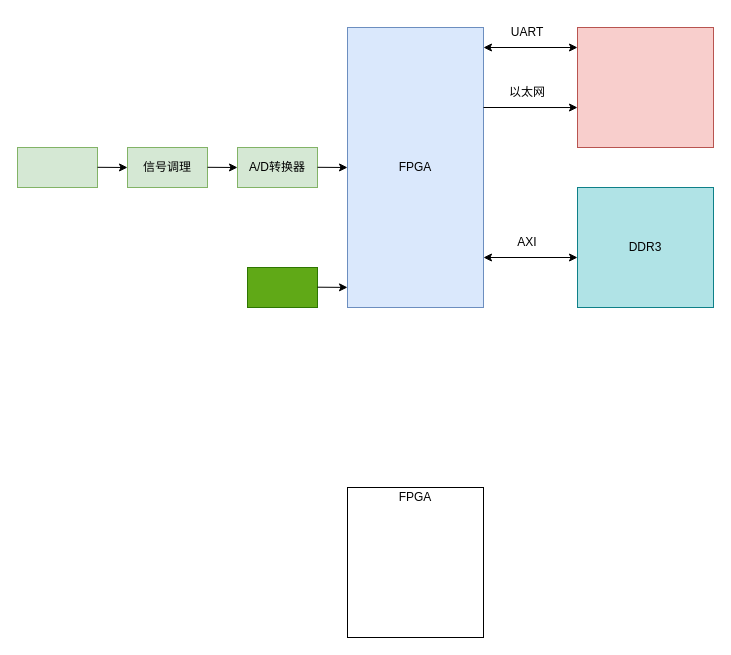
Image size: 731x655. Some labels were removed from this diagram. Each missing label, with the centre of its shape:
"PC" belongs at (x=645, y=87).
"晶振" belongs at (x=282, y=287).
"输入信号" belongs at (x=57, y=167).
